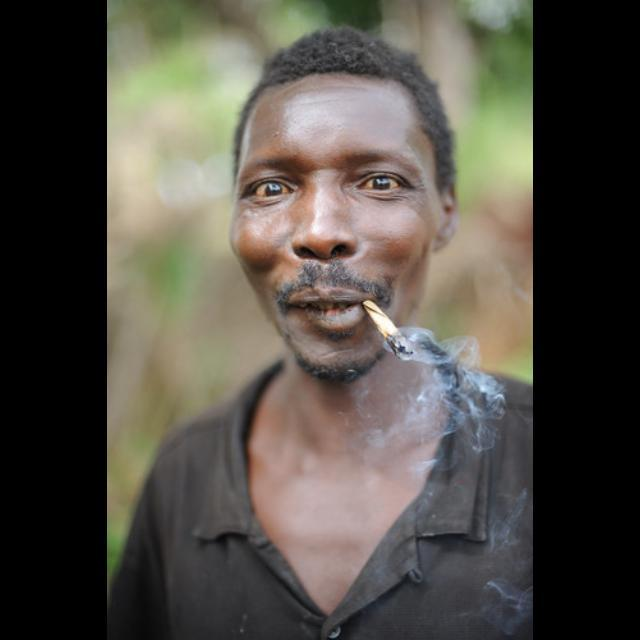rokok: (356, 288, 414, 364)
